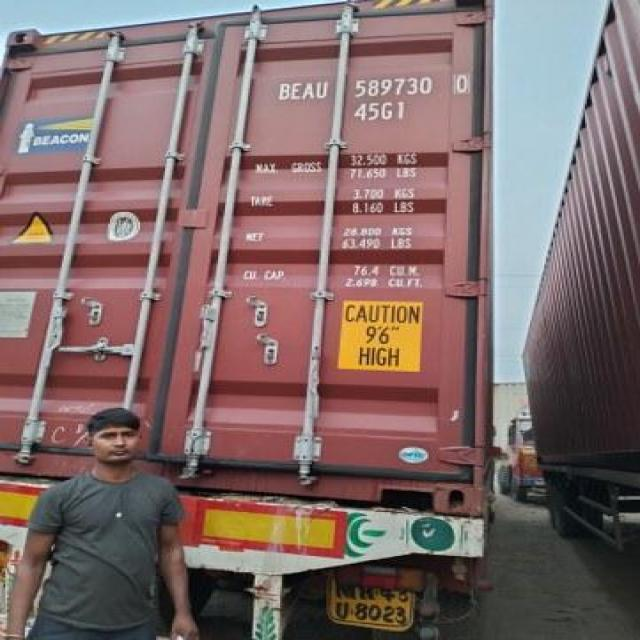container_number_h: (258, 63, 492, 147)
